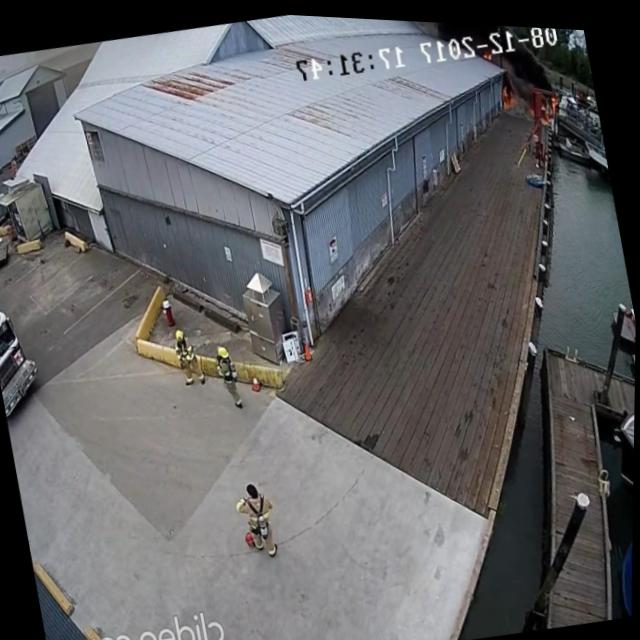fire: (498, 71, 530, 114), (537, 87, 568, 126), (483, 44, 495, 56)
